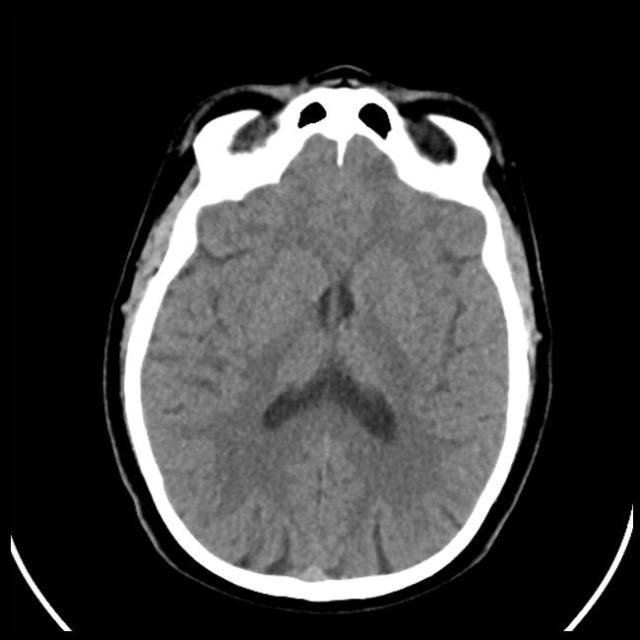lesion: (110, 69, 546, 595)
